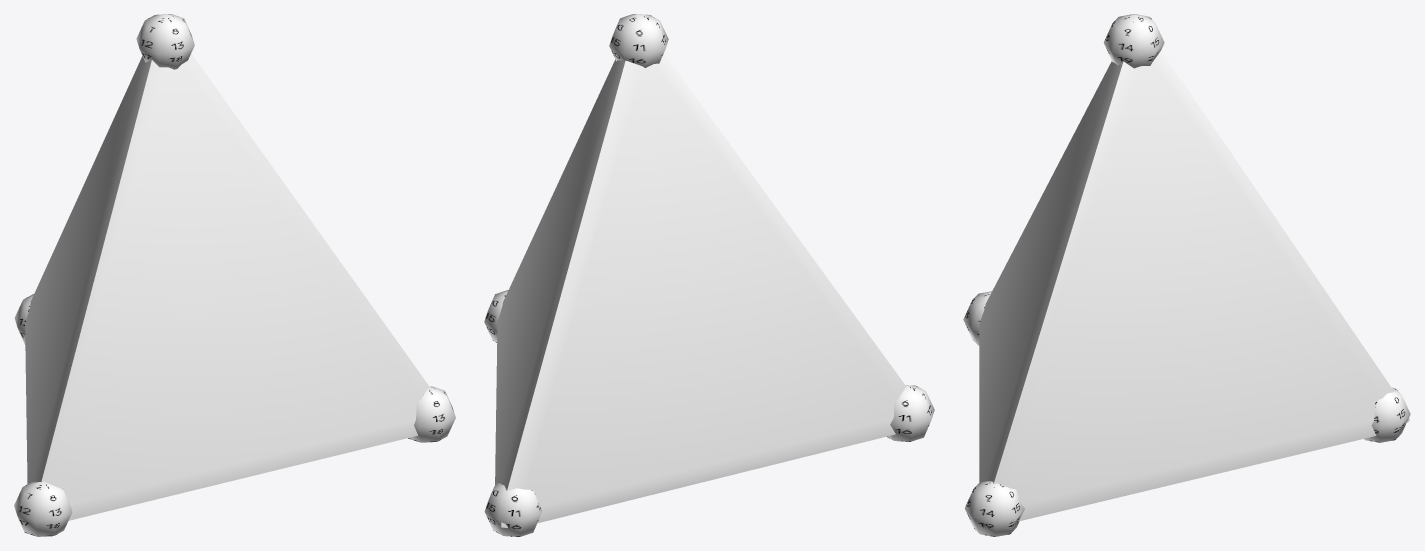
File: Dado4_Col_v2.FBX
3 renders of one model, left to right at view 1: azimuth 30°, elevation 25°; view 2: azimuth 150°, elevation 25°; view 3: azimuth 270°, elevation 25°, orthographic.
Visible parts, largest first — view 1: Dado4_Col; view 2: Dado4_Col; view 3: Dado4_Col.
Part boxes in pixels (x1,y1,x2,y2): Dado4_Col: (14, 14, 455, 536); Dado4_Col: (484, 14, 934, 536); Dado4_Col: (963, 14, 1410, 536).
Bounding box in the file's own units: 233 × 216 × 206.
